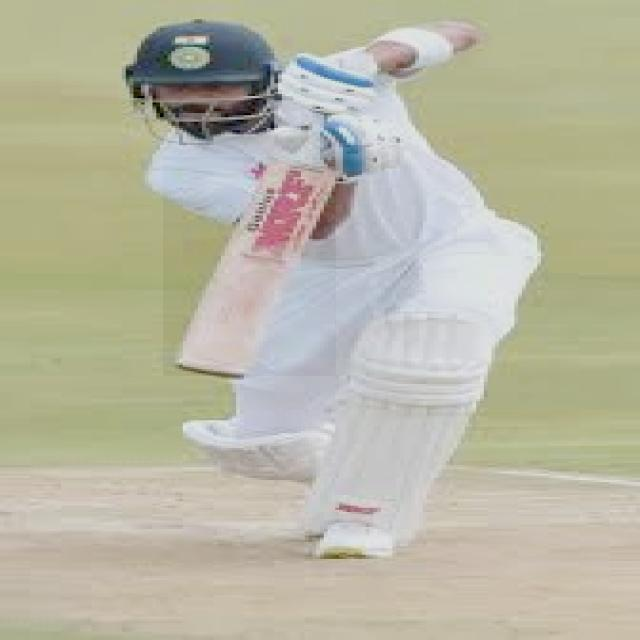bat: (160, 139, 345, 382)
toe: (173, 361, 255, 382)
